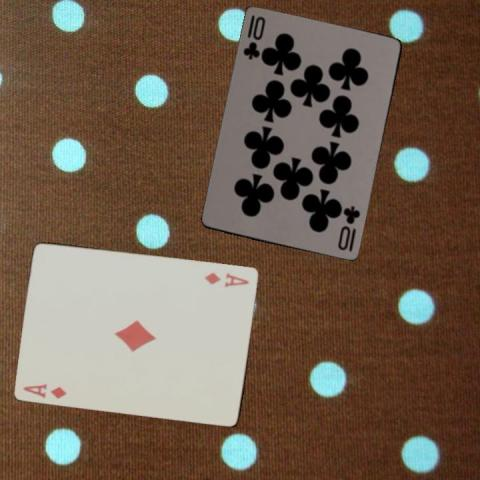10c: (335, 202, 362, 252), (240, 12, 267, 62)
Ad: (201, 269, 251, 288), (20, 381, 68, 399)
